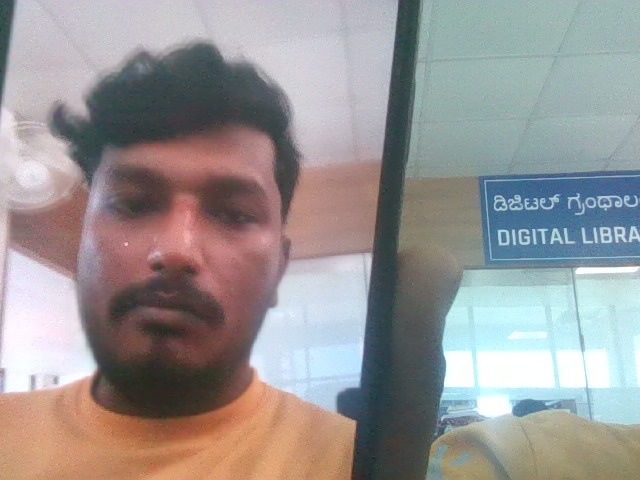fake: (51, 40, 309, 405)
